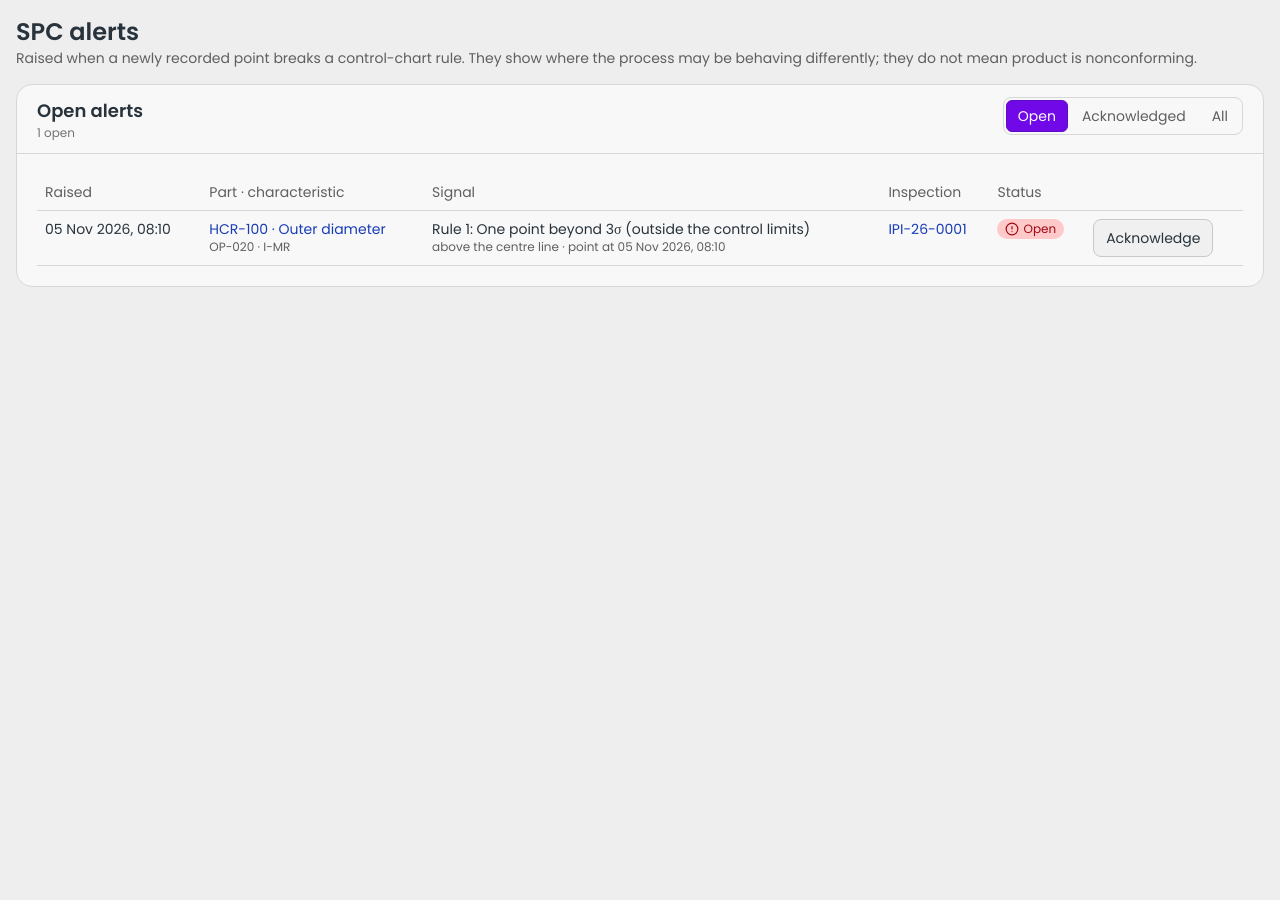
Test: SPC alerts › acknowledges with a required note
Step 1. Click the button "Acknowledge" → x=1153, y=238, box 1093,219 -> 1214,257
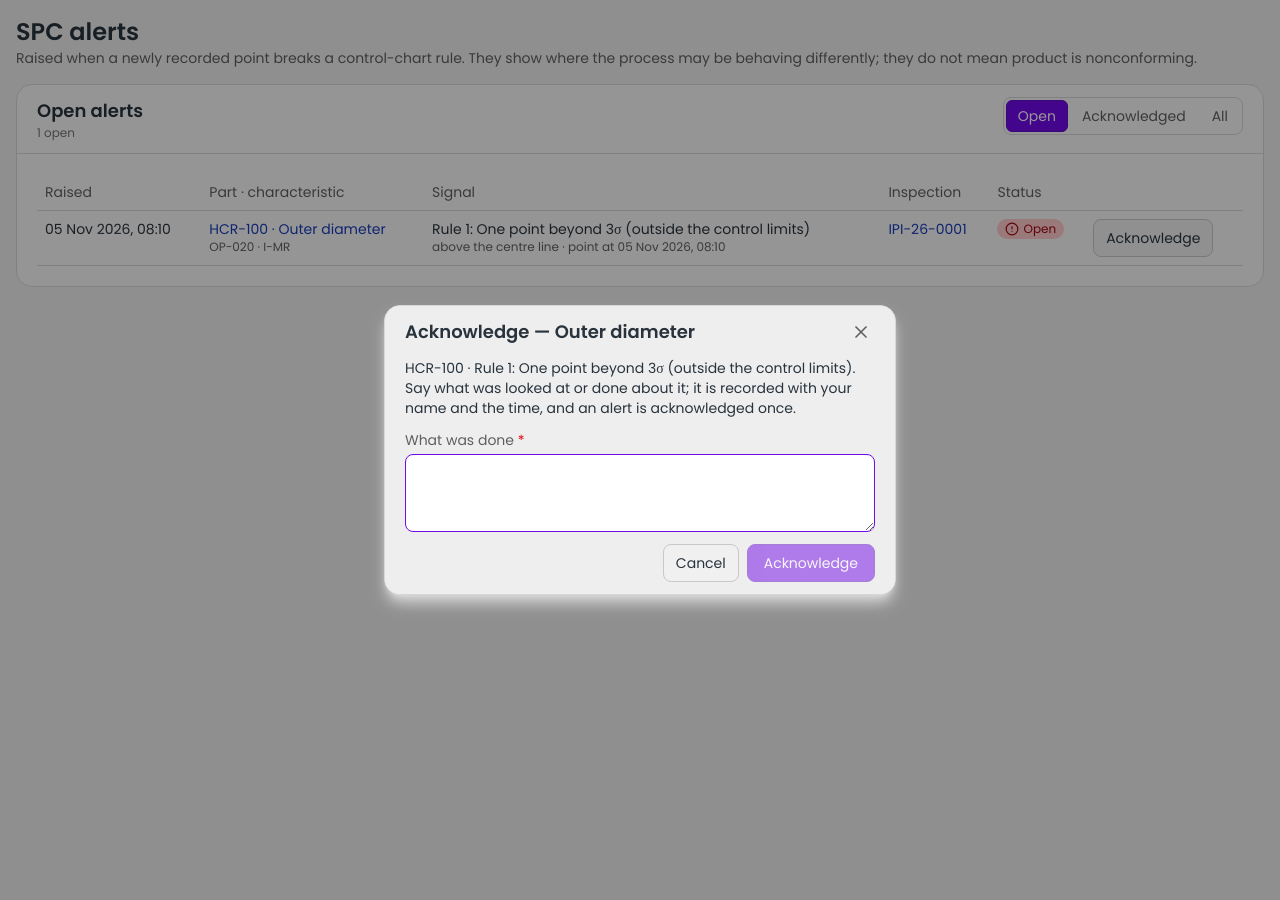
Expected: the button "Acknowledge" is disabled, 747,544 -> 875,582
Step 2. Type "Tool changed" into the text box labelled "What was done" → x=640, y=493, box 405,454 -> 875,532
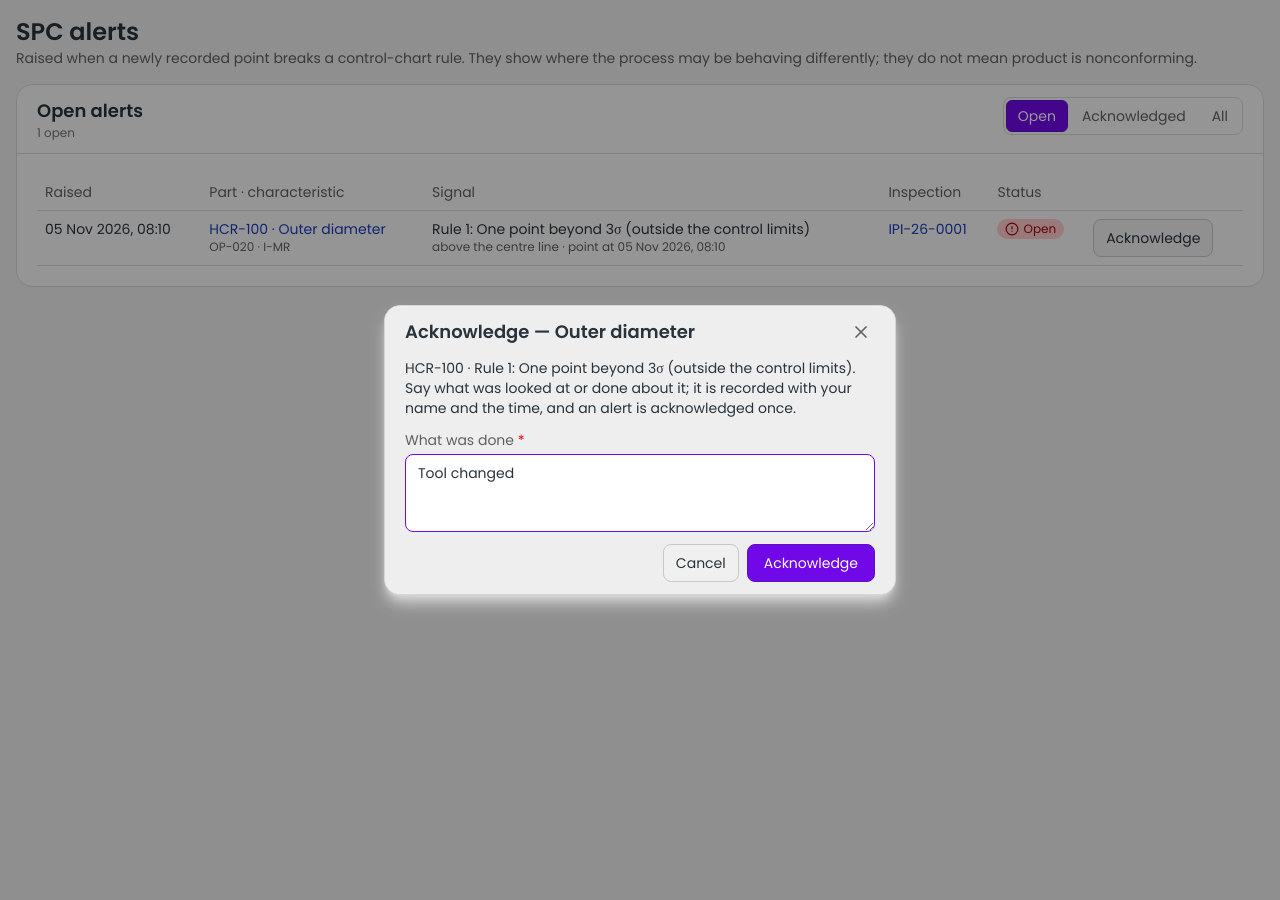
Step 3. Click the button "Acknowledge" → x=811, y=563, box 747,544 -> 875,582
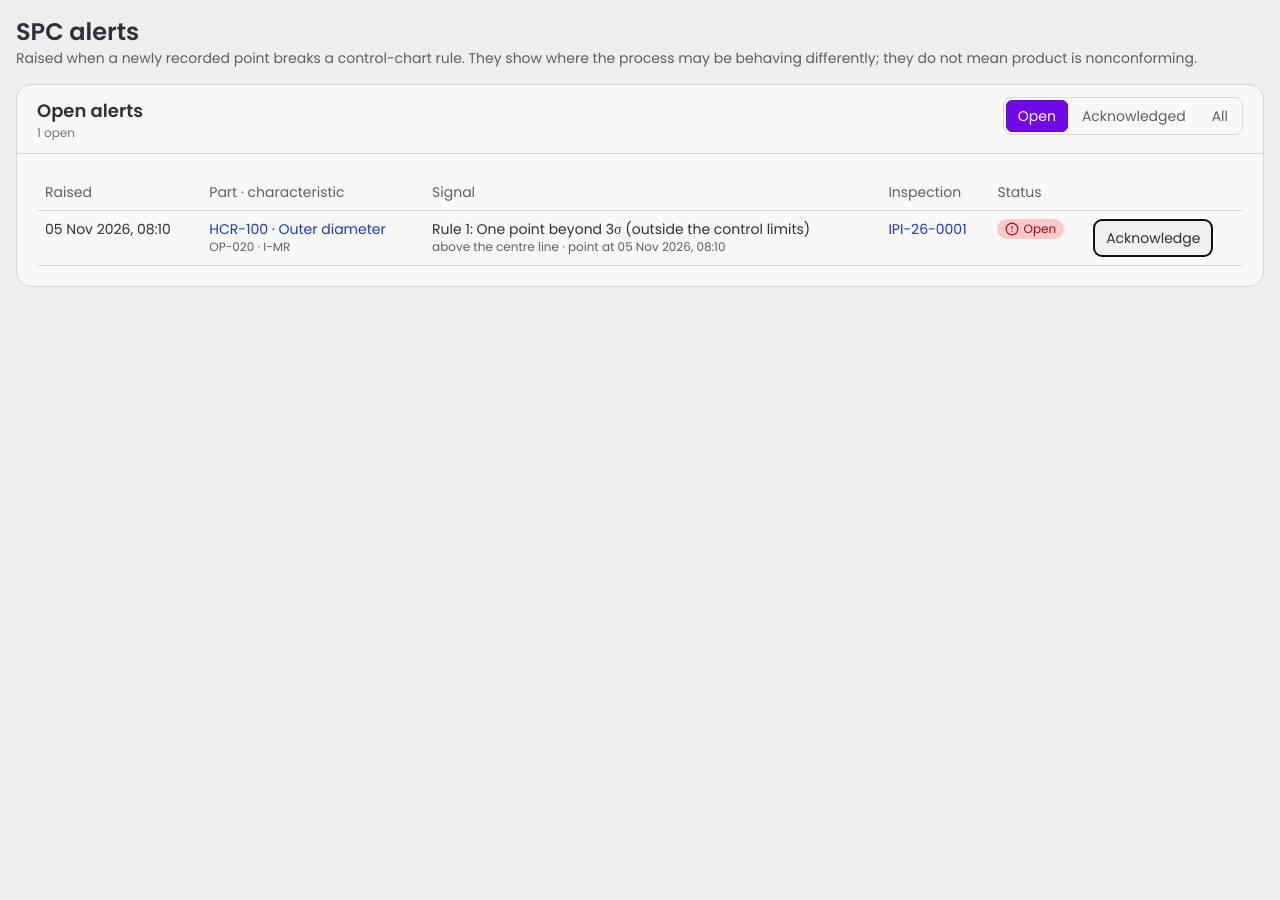
Expected: the dialog is gone
